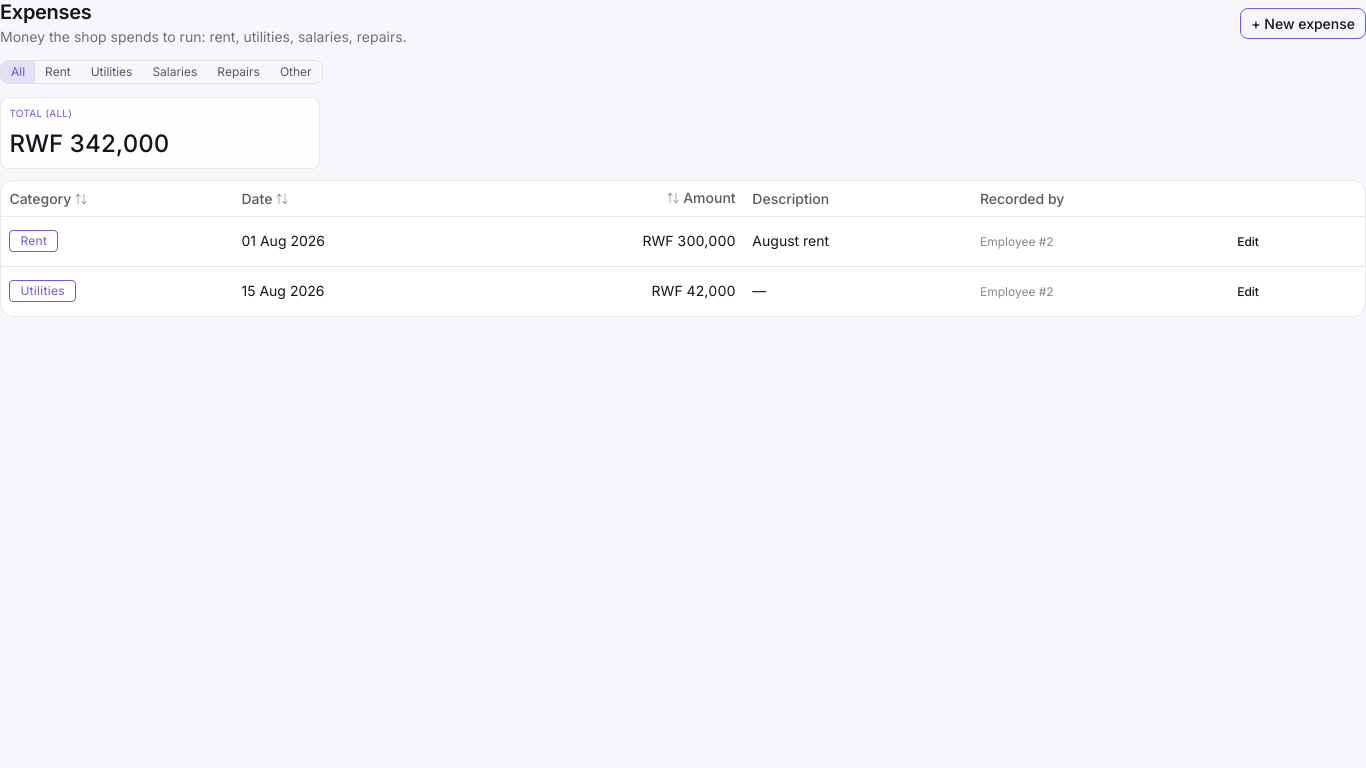
Test: ExpensesPageClient › opens the create dialog from the toolbar button
The image size is (1366, 768).
Expected: the text "August rent" is shown, [744,216,972,266]
Click the button "+ New expense" at (1303, 24), box [1240,8,1365,39]
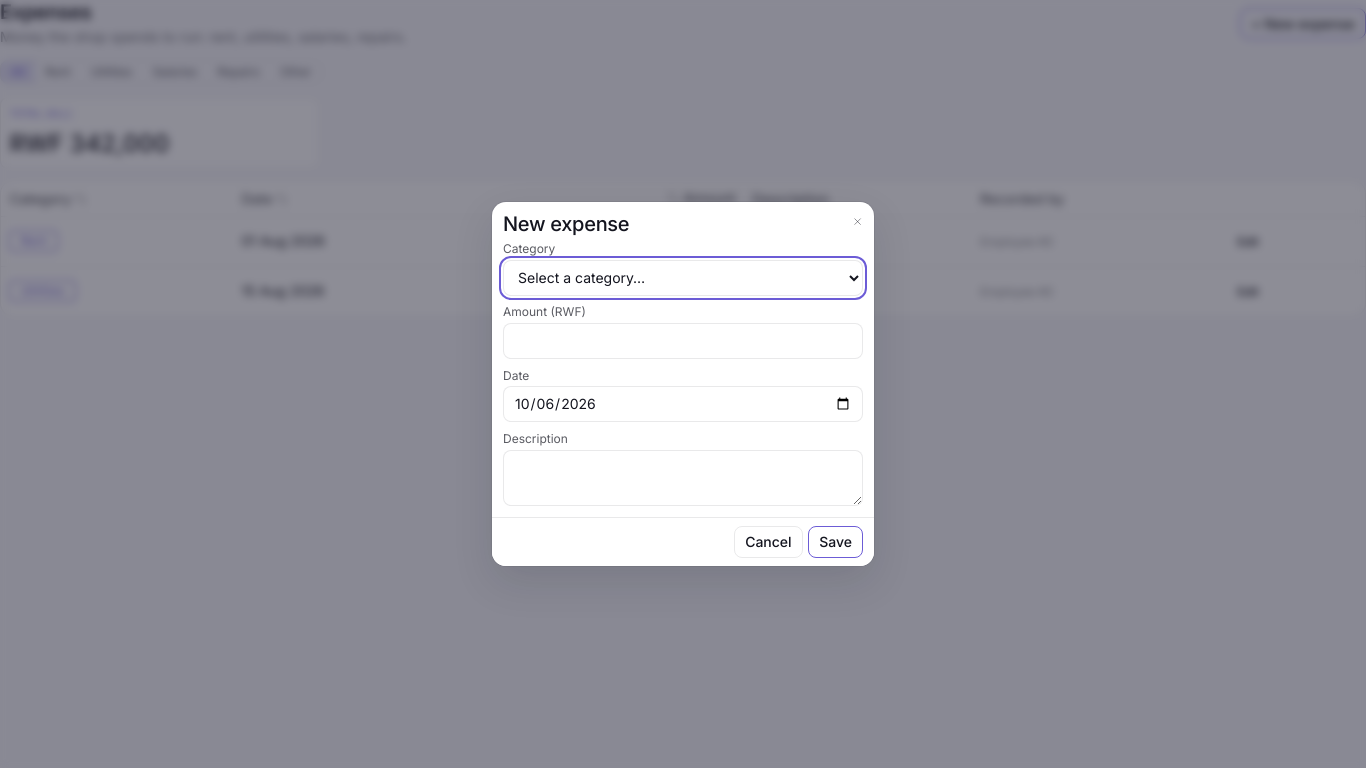
Expected: the heading "New expense" is shown, [503,212,629,236]
